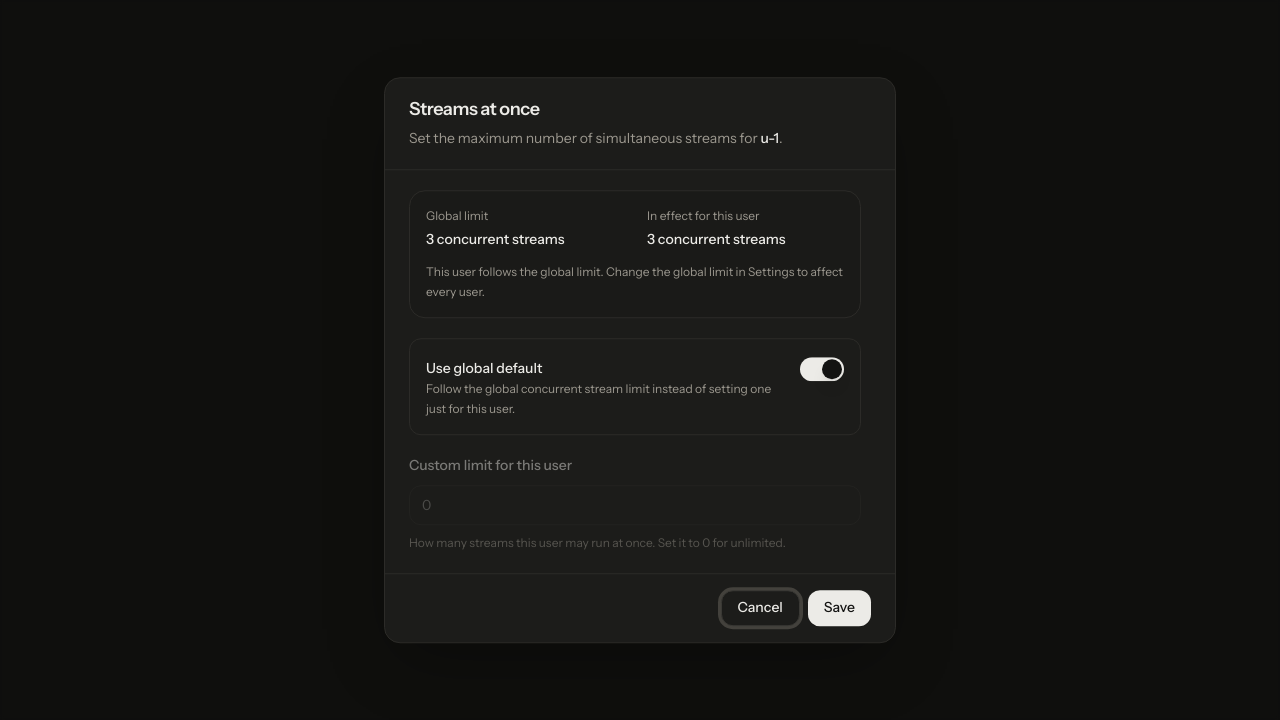
Test: ConcurrentStreamModal › showing which limit is in effect › names the global limit it is replacing
Expected: the text "Use global default" is shown, [426, 360, 542, 378]
Click the switch.
click(822, 370)  # box [800, 358, 844, 382]
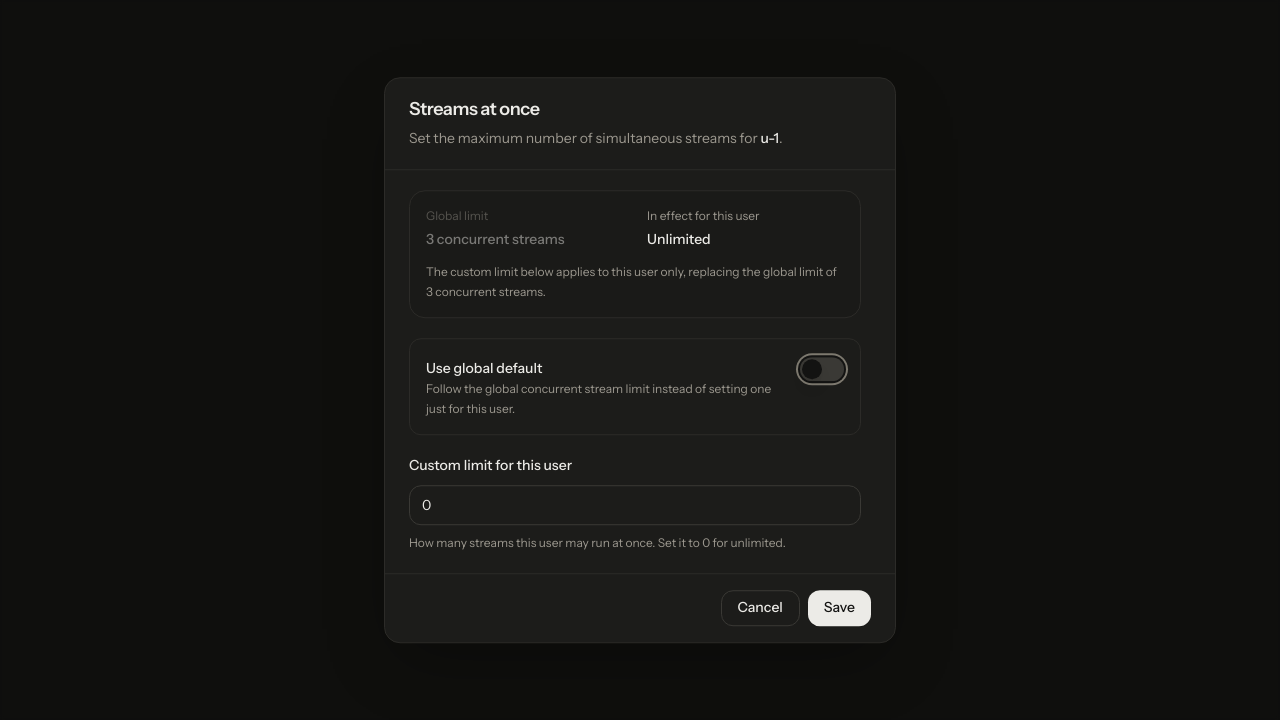
Now the text "replacing the global limit of 3 concurrent streams" is shown, box [426, 265, 837, 299]
